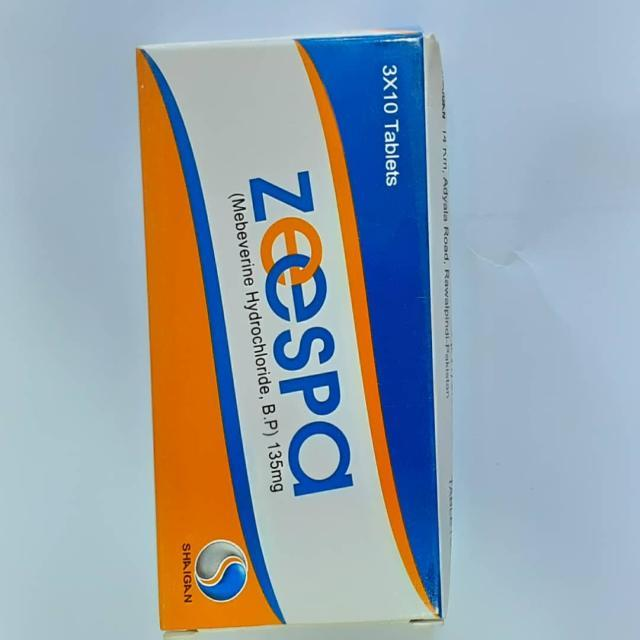drug-name: (245, 164, 360, 502)
